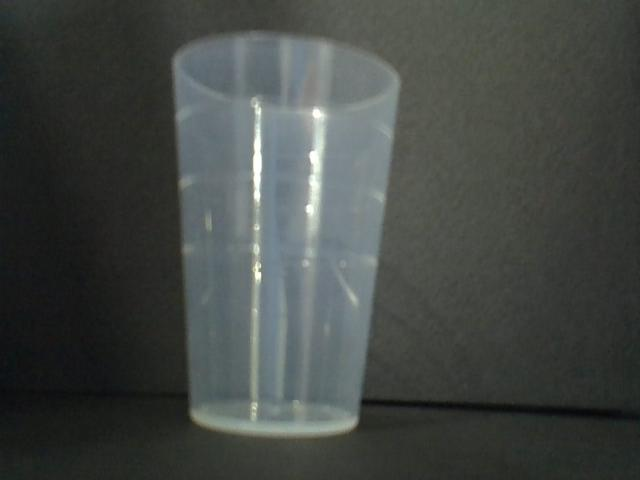cup: (167, 24, 403, 441)
